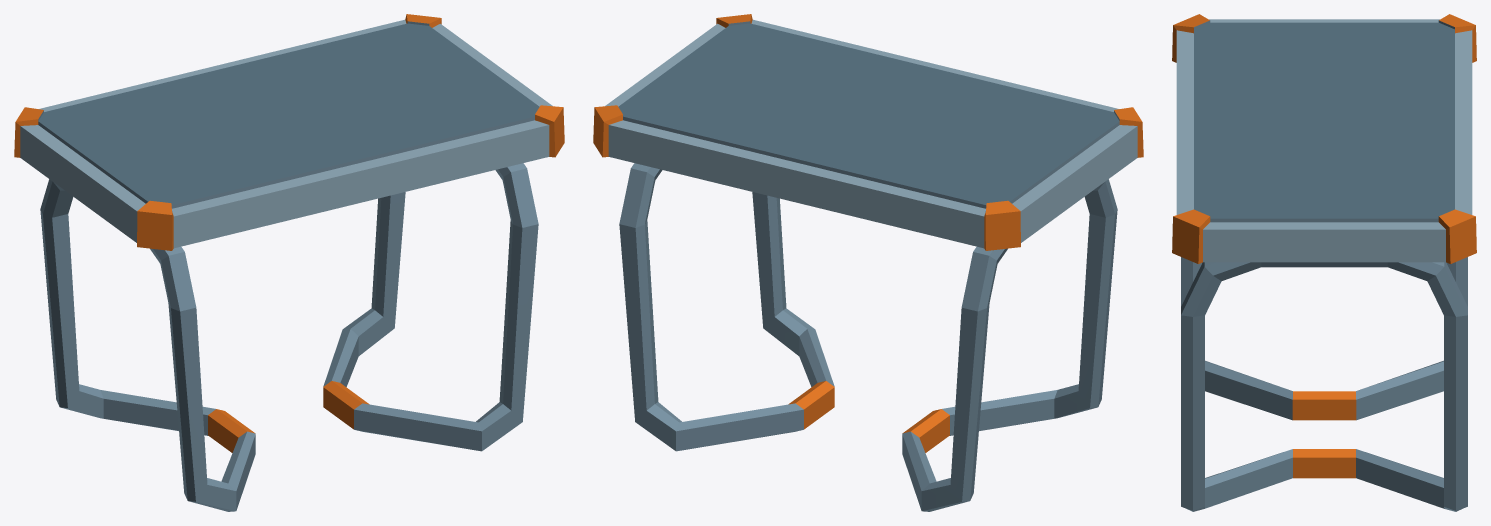
Rendered from BenchSmall_01.glb.
The picture shows the model from 3 angles, left to right: view 1: azimuth 30°, elevation 25°; view 2: azimuth 150°, elevation 25°; view 3: azimuth 270°, elevation 25°; orthographic projection. The views are drawn at different scales.
Parts seen in each view (by area): view 1: BenchSmall_01; view 2: BenchSmall_01; view 3: BenchSmall_01.
Boxes of the visible parts, x1,y1,x2,y2 form: BenchSmall_01: [14, 14, 564, 511]; BenchSmall_01: [593, 14, 1143, 511]; BenchSmall_01: [1172, 14, 1476, 511].
Size of what is drawn, in the model's own units: 0.4344 by 0.3128 by 0.2611.
1 material, 1 textured.
